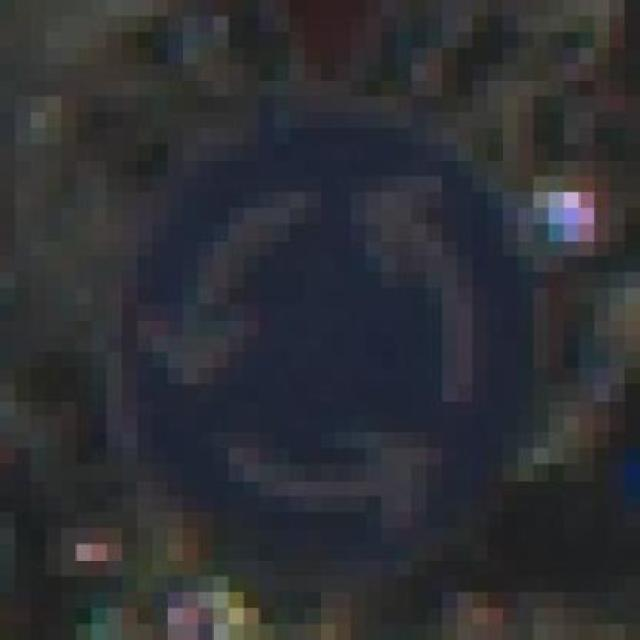Round-About: (107, 112, 579, 576)
